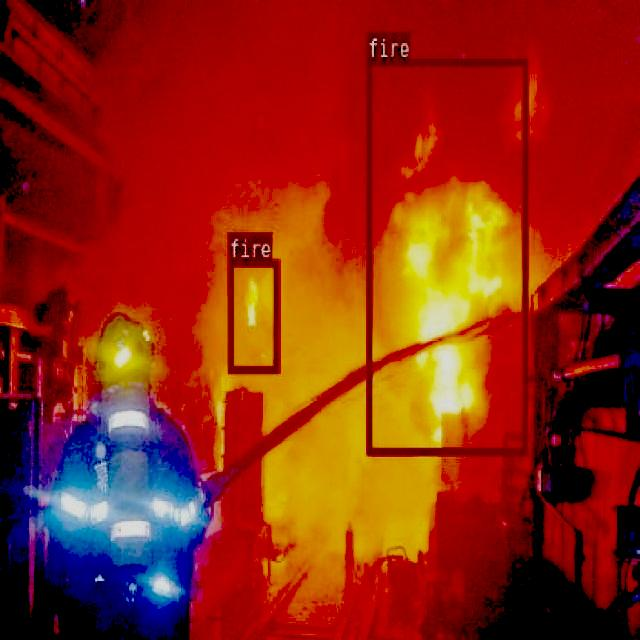fire: (366, 58, 526, 454), (228, 258, 277, 372)
